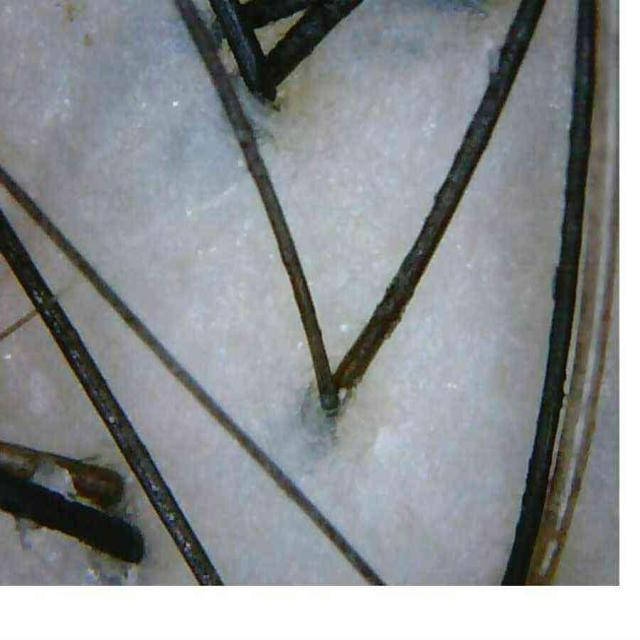d: (30, 460, 76, 497)
